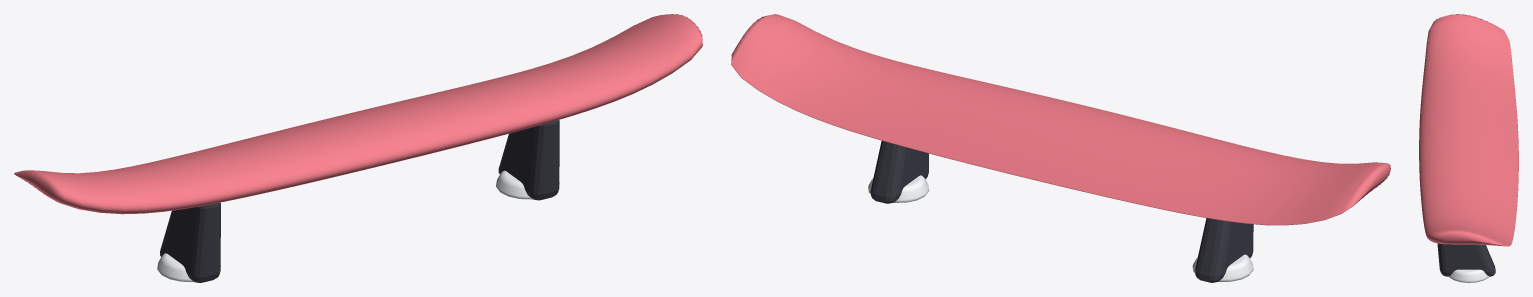
File: spoiler-kanatcik.glb
3 renders of one model, left to right at view 1: azimuth 30°, elevation 25°; view 2: azimuth 150°, elevation 25°; view 3: azimuth 270°, elevation 25°, orthographic. The views are drawn at different scales.
Parts seen in each view (by area): view 1: wing, post-1, post1, pad1, pad-1; view 2: wing, post-1, post1, pad-1, pad1; view 3: wing, post1, pad1.
Part boxes in pixels (<box>): wing: <box>14,14,702,214</box>; post-1: <box>160,202,220,282</box>; post1: <box>498,120,559,200</box>; pad1: <box>496,170,559,199</box>; pad-1: <box>157,253,220,281</box>; wing: <box>731,14,1390,225</box>; post-1: <box>1195,218,1253,282</box>; post1: <box>870,140,928,203</box>; pad-1: <box>1192,254,1253,281</box>; pad1: <box>868,175,929,202</box>; wing: <box>1419,14,1518,246</box>; post1: <box>1437,243,1495,276</box>; pad1: <box>1448,269,1489,282</box>.
Size of the model in its own units: 1 by 0.1997 by 0.192.
